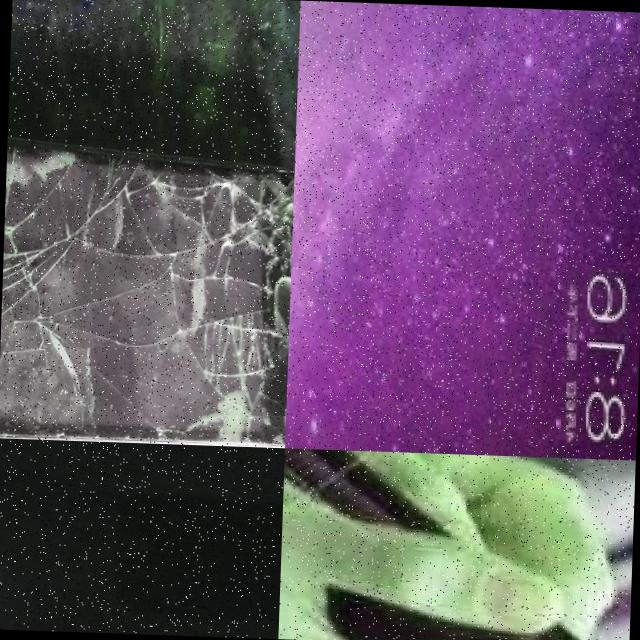screen crack: (0, 128, 294, 447)
